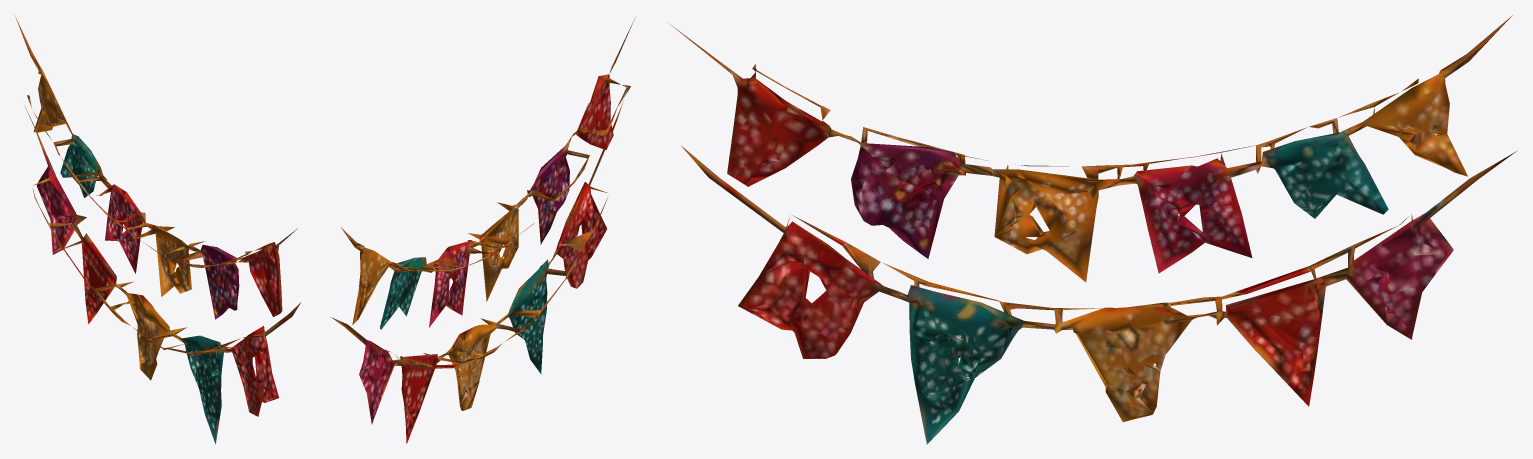
Rendered from papel-picado.glb.
3 views of the same model, side by side, from view 1: azimuth 30°, elevation 25°; view 2: azimuth 150°, elevation 25°; view 3: azimuth 270°, elevation 25° (orthographic). The views are drawn at different scales.
Parts seen in each view (by area): view 1: tripo_node_15a98843-04dd-491a-911e-dd7667a4eaab; view 2: tripo_node_15a98843-04dd-491a-911e-dd7667a4eaab; view 3: tripo_node_15a98843-04dd-491a-911e-dd7667a4eaab.
Part boxes in pixels (x1,y1,x2,y2): tripo_node_15a98843-04dd-491a-911e-dd7667a4eaab: [15, 16, 300, 444]; tripo_node_15a98843-04dd-491a-911e-dd7667a4eaab: [331, 17, 635, 443]; tripo_node_15a98843-04dd-491a-911e-dd7667a4eaab: [669, 15, 1516, 444].
Bounding box in the file's own units: 0.0919 × 0.5525 × 0.998.
Materials: 1 (1 with a texture image).
